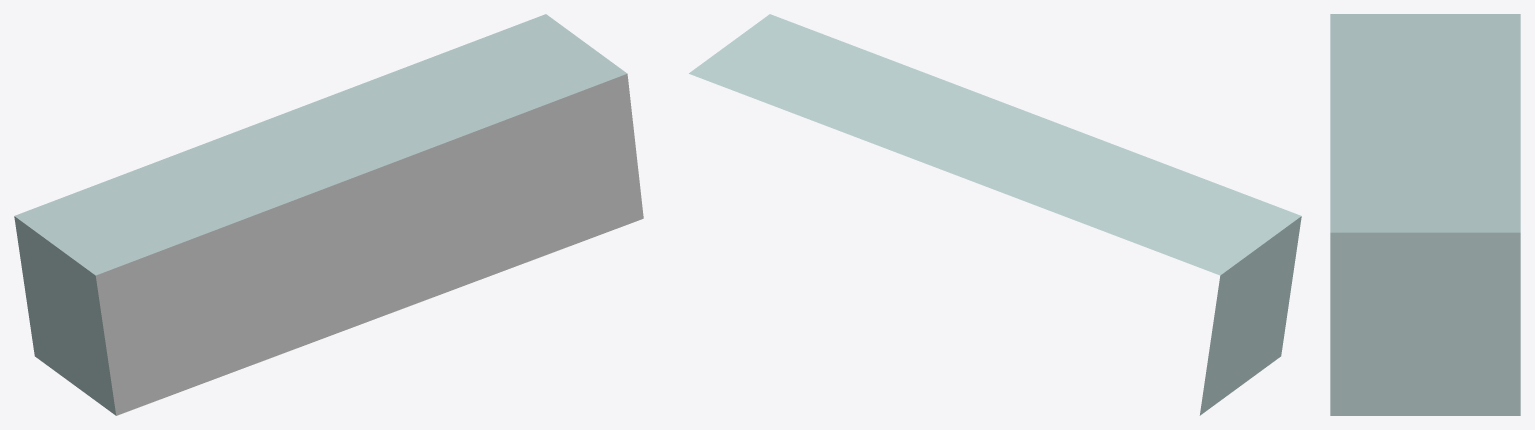
3 views of the same model, side by side, from view 1: azimuth 30°, elevation 25°; view 2: azimuth 150°, elevation 25°; view 3: azimuth 270°, elevation 25° (orthographic). The views are drawn at different scales.
Parts seen in each view (by area): view 1: 0_1_2_1_3_1_2_0_3; view 2: 0_1_2_1_3_1_2_0_3; view 3: 0_1_2_1_3_1_2_0_3.
Part boxes in pixels (bbox=[...]): 0_1_2_1_3_1_2_0_3: bbox=[14, 14, 643, 415]; 0_1_2_1_3_1_2_0_3: bbox=[689, 14, 1301, 415]; 0_1_2_1_3_1_2_0_3: bbox=[1330, 14, 1520, 415].
Size of the model in its own units: 11.65 by 4.42 by 3.
